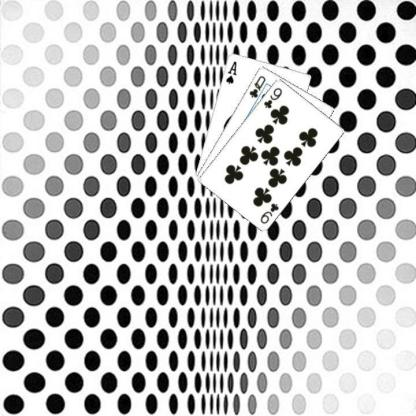9C: (261, 84, 283, 110), (258, 200, 280, 225)
AS: (223, 58, 237, 85)
QC: (247, 73, 267, 99)
